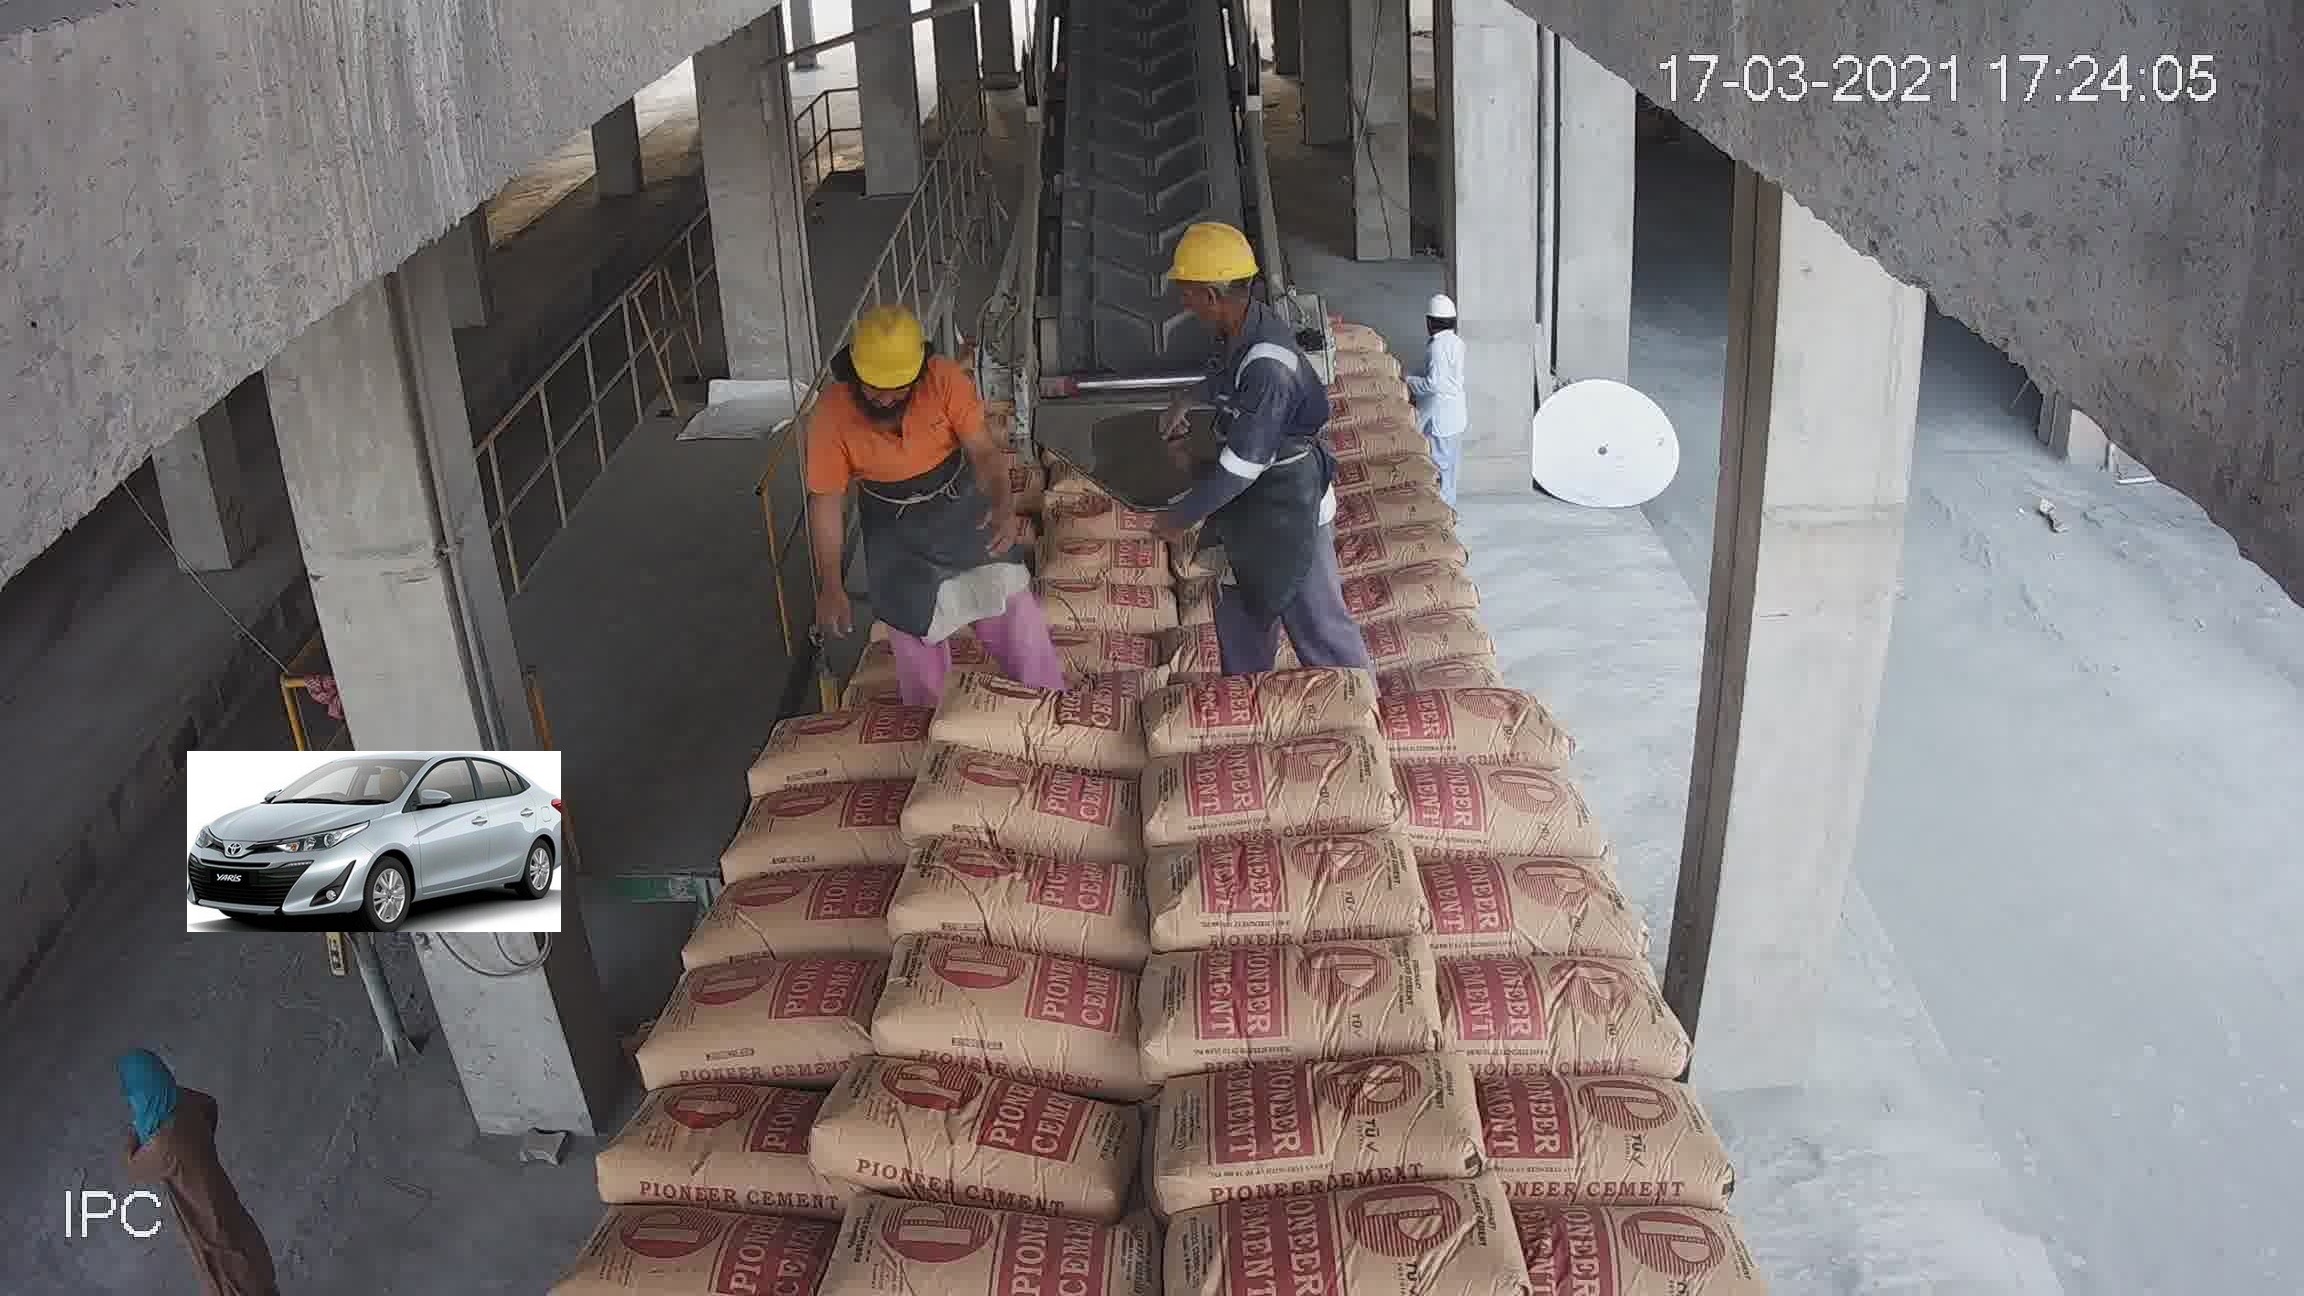bag: (1035, 301, 1180, 410), (1108, 46, 1195, 150)
bag_h: (1097, 1036, 1457, 1190), (1147, 1176, 1514, 1296), (1101, 926, 1453, 1046), (1108, 824, 1445, 943), (837, 962, 1157, 1081), (798, 1089, 1135, 1193), (642, 957, 888, 1090), (1462, 930, 1693, 1071), (1472, 1070, 1696, 1207), (603, 1079, 847, 1199), (1141, 722, 1375, 843), (1491, 1196, 1760, 1296), (1136, 650, 1400, 748), (1158, 567, 1402, 673), (883, 843, 1124, 945), (1419, 836, 1622, 956), (663, 870, 892, 967), (574, 1215, 847, 1296), (1380, 752, 1595, 851), (801, 1212, 1152, 1271), (707, 786, 899, 885), (718, 722, 929, 804), (923, 695, 1161, 763), (764, 636, 965, 715), (888, 772, 1125, 839), (1358, 612, 1544, 688), (1364, 696, 1560, 767), (1168, 540, 1367, 609), (965, 623, 1192, 679), (1139, 508, 1336, 571), (964, 552, 1150, 619), (964, 505, 1146, 571), (1324, 563, 1522, 623), (1337, 473, 1492, 546), (805, 589, 964, 646), (839, 481, 978, 544), (1158, 459, 1320, 510), (1312, 521, 1483, 565), (983, 476, 1157, 519), (836, 544, 973, 593)
belt: (1062, 14, 1268, 348)
